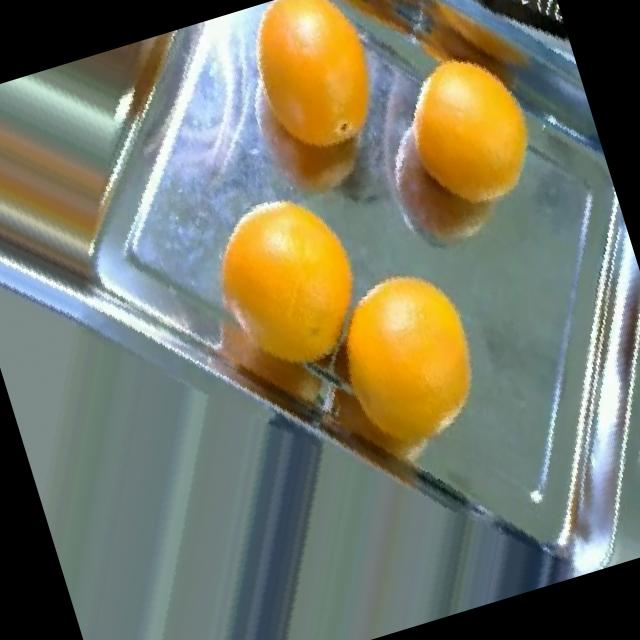Fruit: (278, 232, 522, 494), (344, 32, 592, 282), (166, 152, 402, 412)
